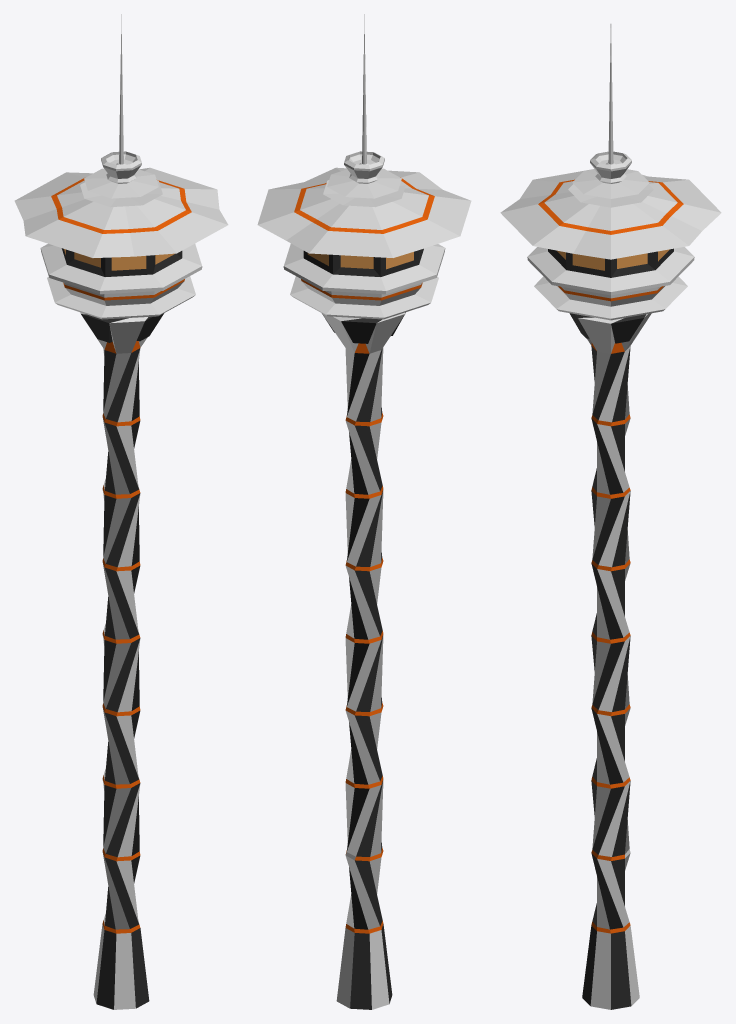
The model's file is Lightfire Main_ver5.fbx.
3 renders of one model, left to right at view 1: azimuth 30°, elevation 25°; view 2: azimuth 150°, elevation 25°; view 3: azimuth 270°, elevation 25°, orthographic.
Parts seen in each view (by area): view 1: Lightfire Top; view 2: Lightfire Top; view 3: Lightfire Top.
Boxes of the visible parts, x1,y1,x2,y2 form: Lightfire Top: (14, 14, 228, 1009); Lightfire Top: (257, 14, 471, 1009); Lightfire Top: (500, 24, 721, 1009).
Bounding box in the file's own units: 1046 × 5125 × 1046.
